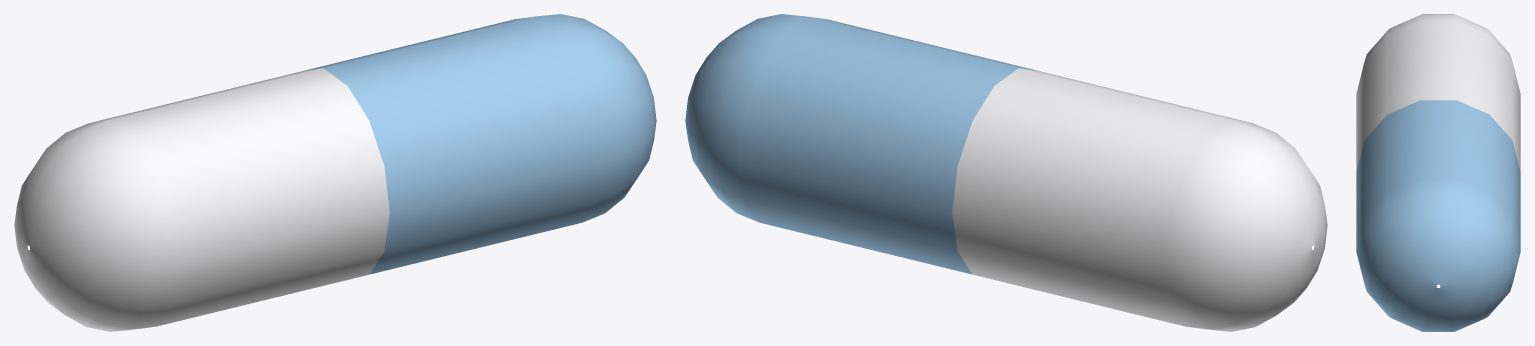
Rendered from pill.glb.
3 views of the same model, side by side, from view 1: azimuth 30°, elevation 25°; view 2: azimuth 150°, elevation 25°; view 3: azimuth 270°, elevation 25° (orthographic). The views are drawn at different scales.
Visible parts, largest first — view 1: Pill; view 2: Pill; view 3: Pill.
Boxes of the visible parts, x1,y1,x2,y2 form: Pill: [14, 14, 656, 331]; Pill: [685, 14, 1327, 331]; Pill: [1356, 14, 1520, 331].
Size of the model in its own units: 0.0274 by 0.00819 by 0.0084.
